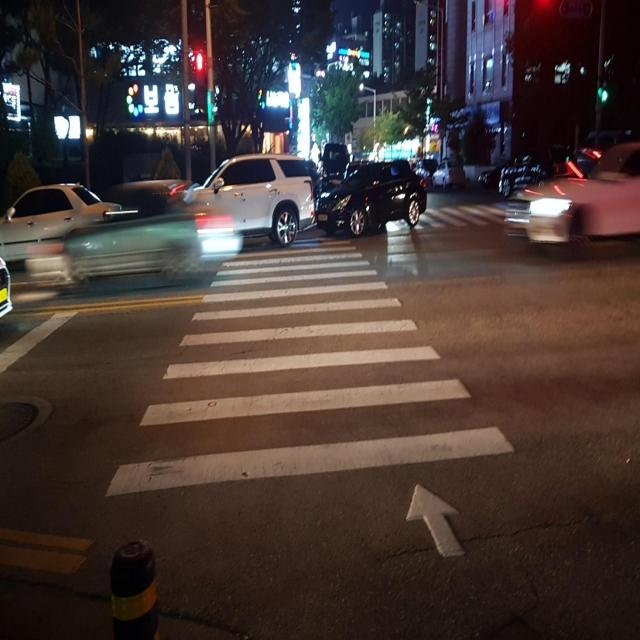빨간불: (194, 49, 207, 105)
횡단보도: (103, 235, 517, 558), (389, 203, 508, 231)
